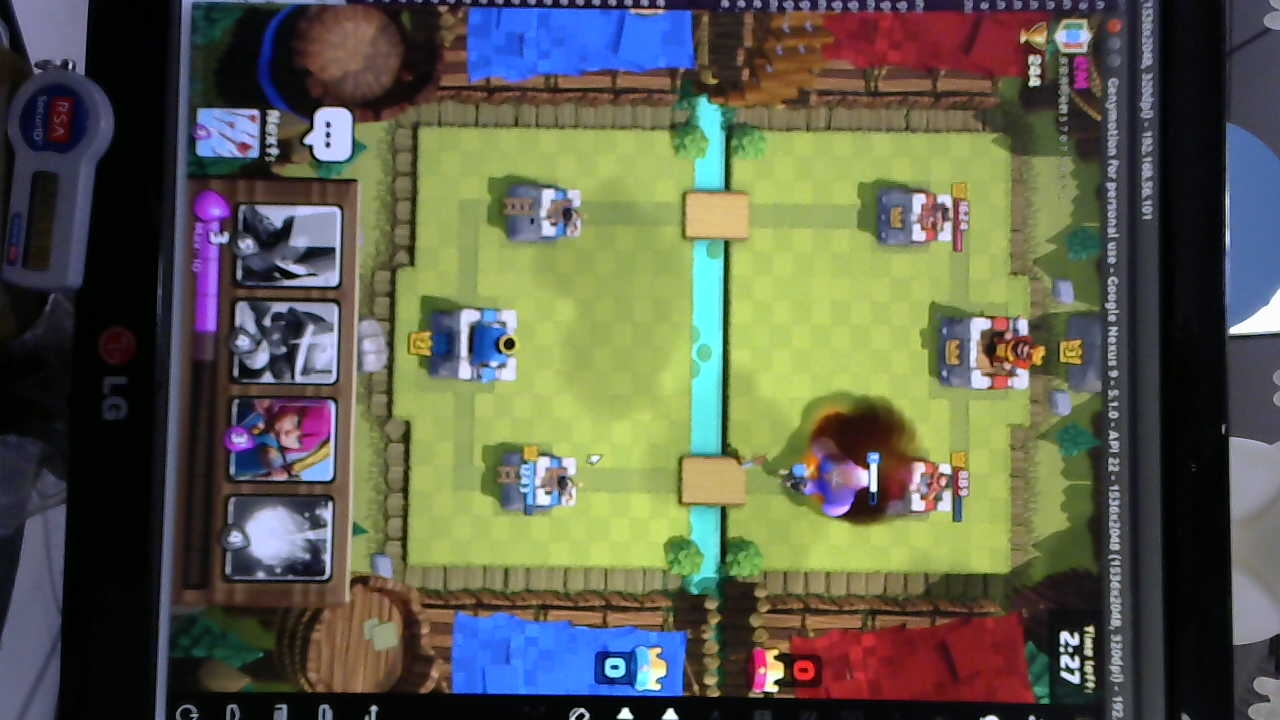arena: (502, 177, 584, 244), (504, 449, 581, 514)
bomb: (783, 457, 818, 497)
earena: (874, 189, 955, 251), (883, 454, 957, 521)
eking: (940, 311, 1040, 395)
giant: (810, 432, 868, 519)
king: (428, 303, 524, 386)
